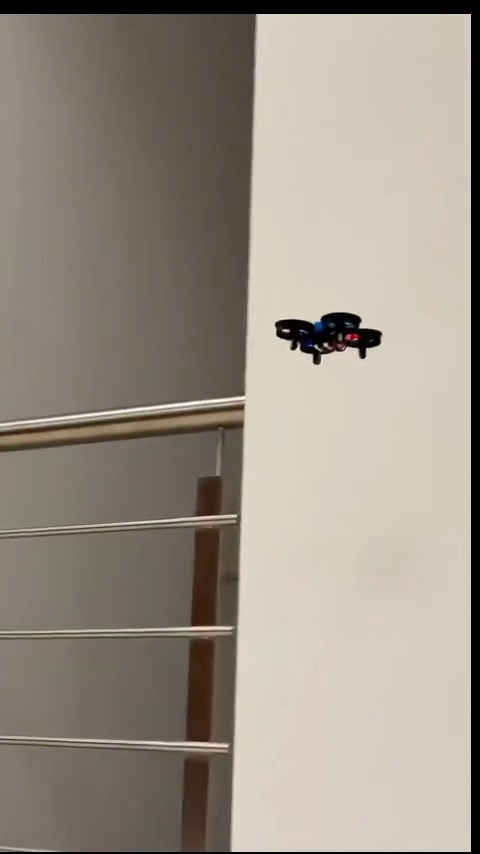drone: (278, 315, 385, 365)
